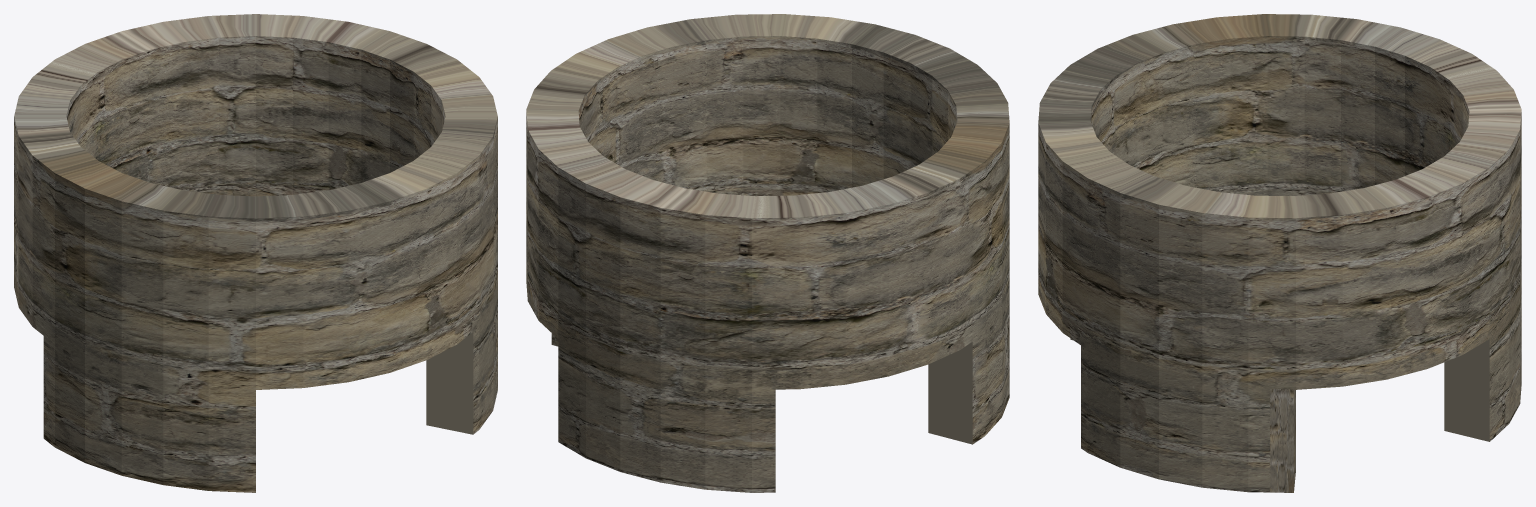
Rendered from walls.glb.
3 renders of one model, left to right at view 1: azimuth 30°, elevation 25°; view 2: azimuth 150°, elevation 25°; view 3: azimuth 270°, elevation 25°, orthographic.
Visible parts, largest first — view 1: walls 002; view 2: walls 002; view 3: walls 002.
Boxes of the visible parts, x1=… form: walls 002: x1=14, y1=14, x2=497, y2=492; walls 002: x1=526, y1=14, x2=1009, y2=492; walls 002: x1=1038, y1=14, x2=1521, y2=492.
Bounding box in the file's own units: 399 × 250 × 399.
Materials: 1 (1 with a texture image).
